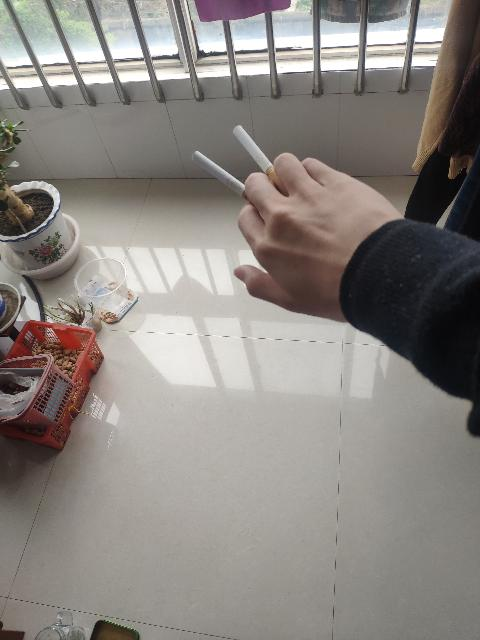Cigarette: (192, 150, 264, 212), (232, 124, 288, 196)
